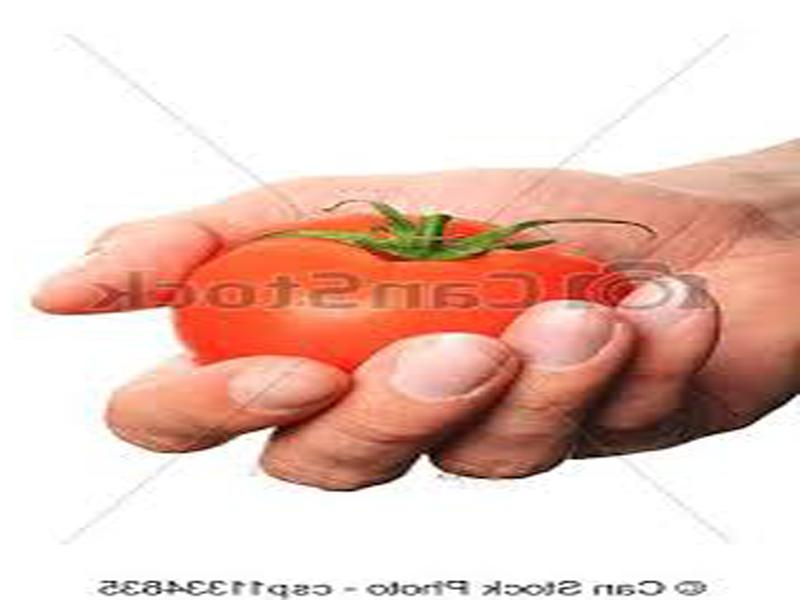Tomato: (173, 217, 629, 368)
